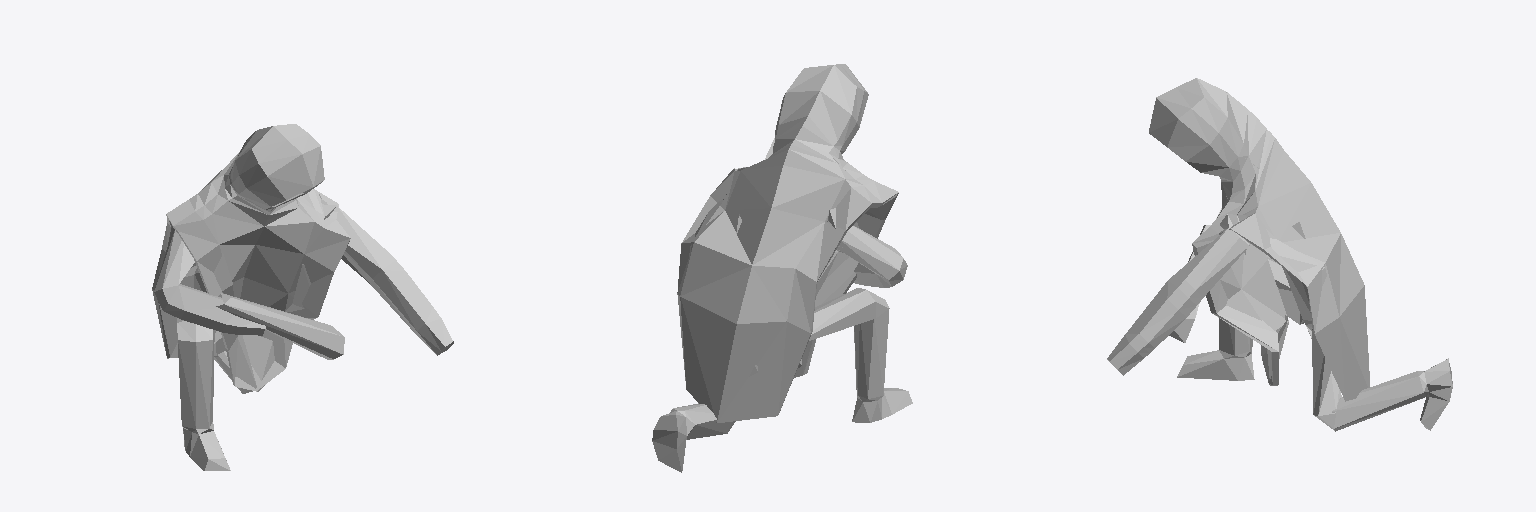
The model's file is Dude_Light2.obj.
The picture shows the model from 3 angles: view 1: azimuth 30°, elevation 25°; view 2: azimuth 150°, elevation 25°; view 3: azimuth 270°, elevation 25°; orthographic projection.
Visible parts, largest first — view 1: Dude.HOOD.005_Cube.021, Dude.BOD.005_Cube.020, Cube.006_Cube.018; view 2: Dude.HOOD.005_Cube.021, Dude.BOD.005_Cube.020; view 3: Dude.HOOD.005_Cube.021, Dude.BOD.005_Cube.020.
Part boxes in pixels (x1,y1,x2,y2): Dude.HOOD.005_Cube.021: (152,124,350,391); Dude.BOD.005_Cube.020: (154,194,453,470); Cube.006_Cube.018: (215,293,344,359); Dude.HOOD.005_Cube.021: (677,64,898,422); Dude.BOD.005_Cube.020: (652,167,912,472); Dude.HOOD.005_Cube.021: (1149,78,1369,401); Dude.BOD.005_Cube.020: (1107,208,1452,431).
Bounding box in the file's own units: 3.05 × 4.16 × 3.92.